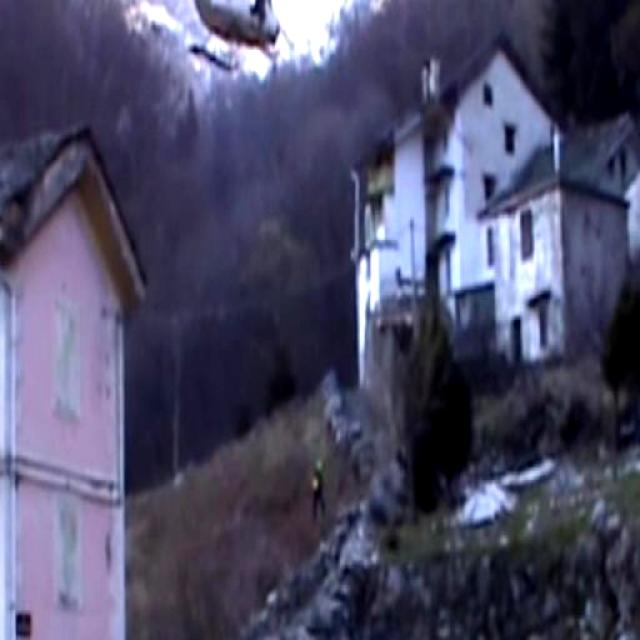drone: (104, 0, 302, 95)
